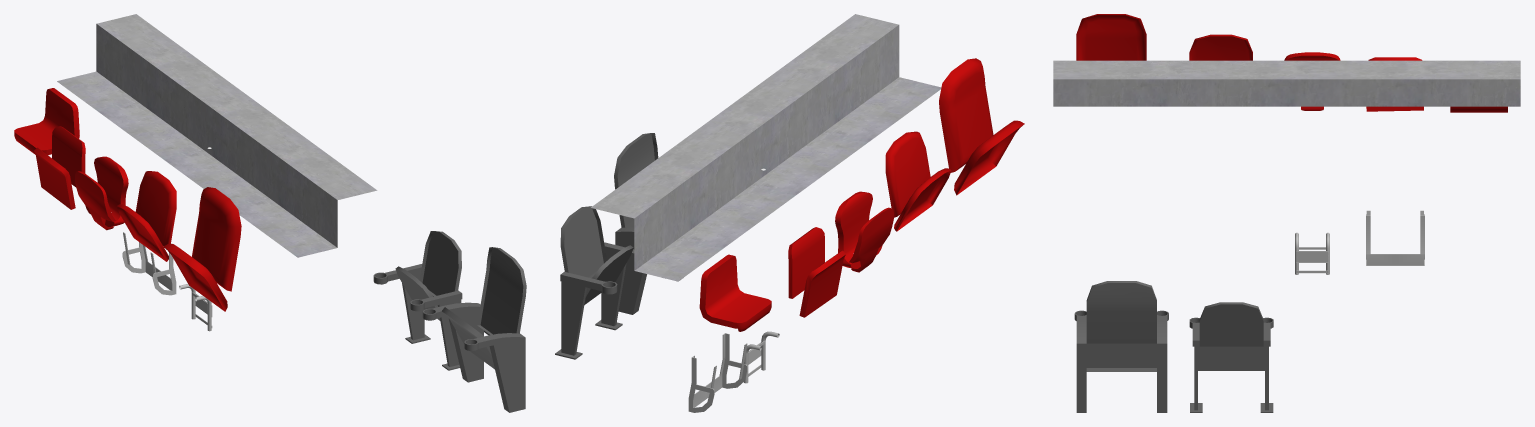
File: stadium-seats.glb
3 views of the same model, side by side, from view 1: azimuth 30°, elevation 25°; view 2: azimuth 150°, elevation 25°; view 3: azimuth 270°, elevation 25° (orthographic). The views are drawn at different scales.
Visible parts, largest first — view 1: Material2 (×4); view 2: Material2 (×4); view 3: Material2 (×4).
Part boxes in pixels (x1,y1,x2,y2): Material2 (×4): (14,14,526,412); Material2 (×4): (555,14,1024,412); Material2 (×4): (1053,14,1520,412).
Size of the model in its own units: 117 by 89.65 by 144.
5 materials, 1 textured.
